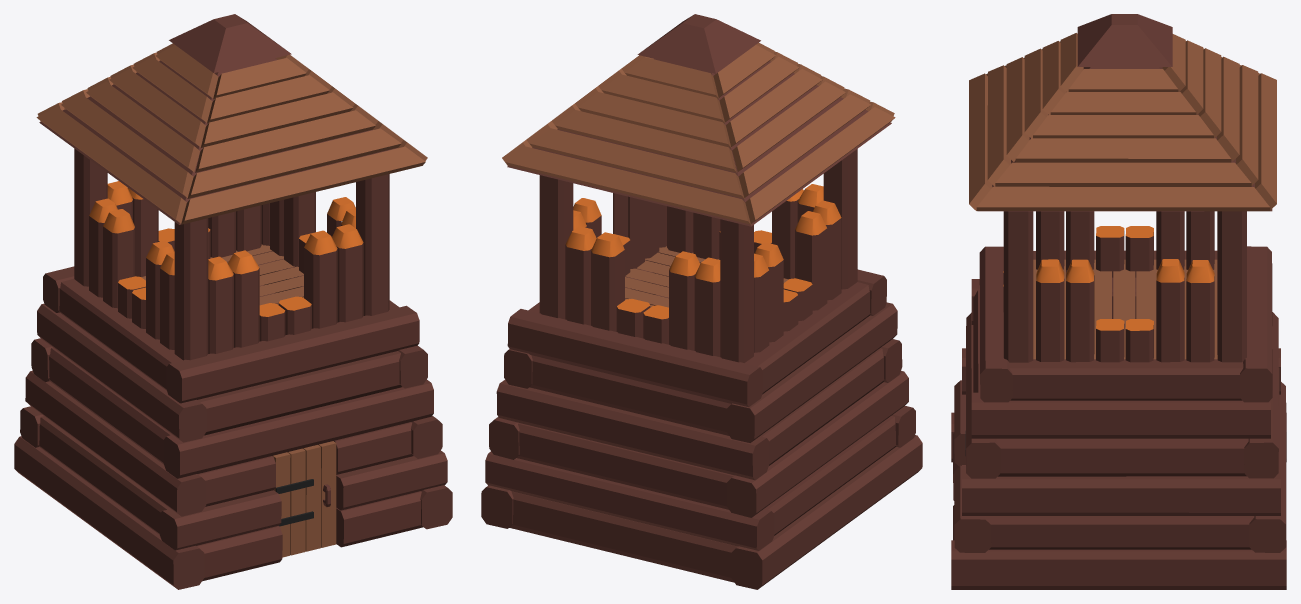
File: tower_with_roof.fbx
3 views of the same model, side by side, from view 1: azimuth 30°, elevation 25°; view 2: azimuth 150°, elevation 25°; view 3: azimuth 270°, elevation 25° (orthographic). The views are drawn at different scales.
Visible parts, largest first — view 1: tower, door; view 2: tower; view 3: tower.
Part boxes in pixels (x1,y1,x2,y2): tower: (14, 14, 452, 589); door: (273, 441, 336, 557); tower: (481, 14, 922, 589); tower: (951, 14, 1286, 589).
Size of the model in its own units: 329 by 537 by 325.
